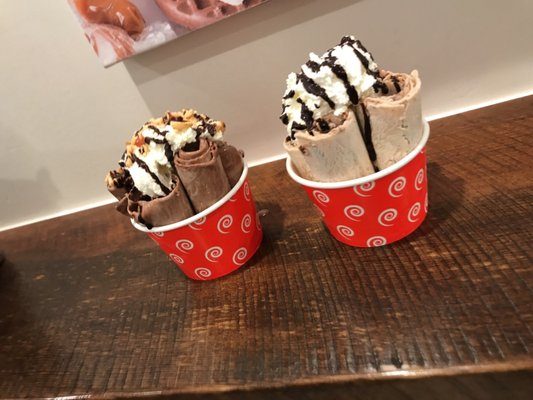pizza: (281, 39, 431, 249)
